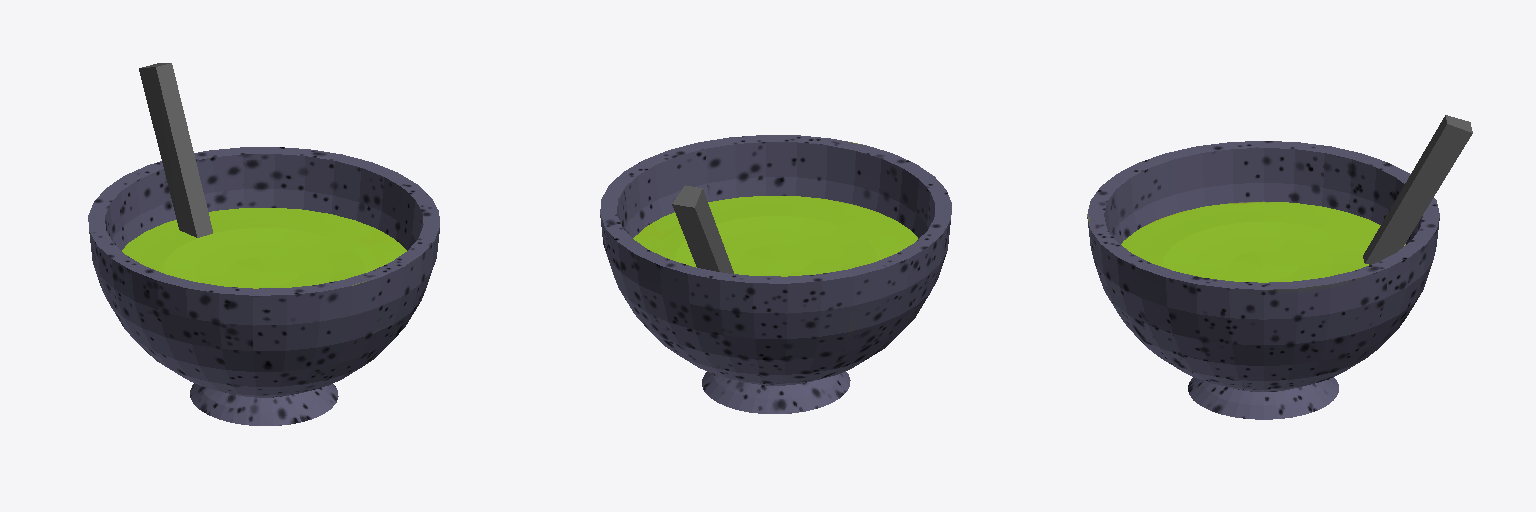
The picture shows the model from 3 angles: view 1: azimuth 30°, elevation 25°; view 2: azimuth 150°, elevation 25°; view 3: azimuth 270°, elevation 25°; orthographic projection.
Parts seen in each view (by area): view 1: Sphere; view 2: Sphere; view 3: Sphere.
Part boxes in pixels (bbox=[...]): Sphere: bbox=[88, 63, 439, 425]; Sphere: bbox=[600, 135, 951, 413]; Sphere: bbox=[1087, 115, 1472, 419].
Size of the model in its own units: 3.3 by 2.73 by 3.6.
Materials: 1 (1 with a texture image).